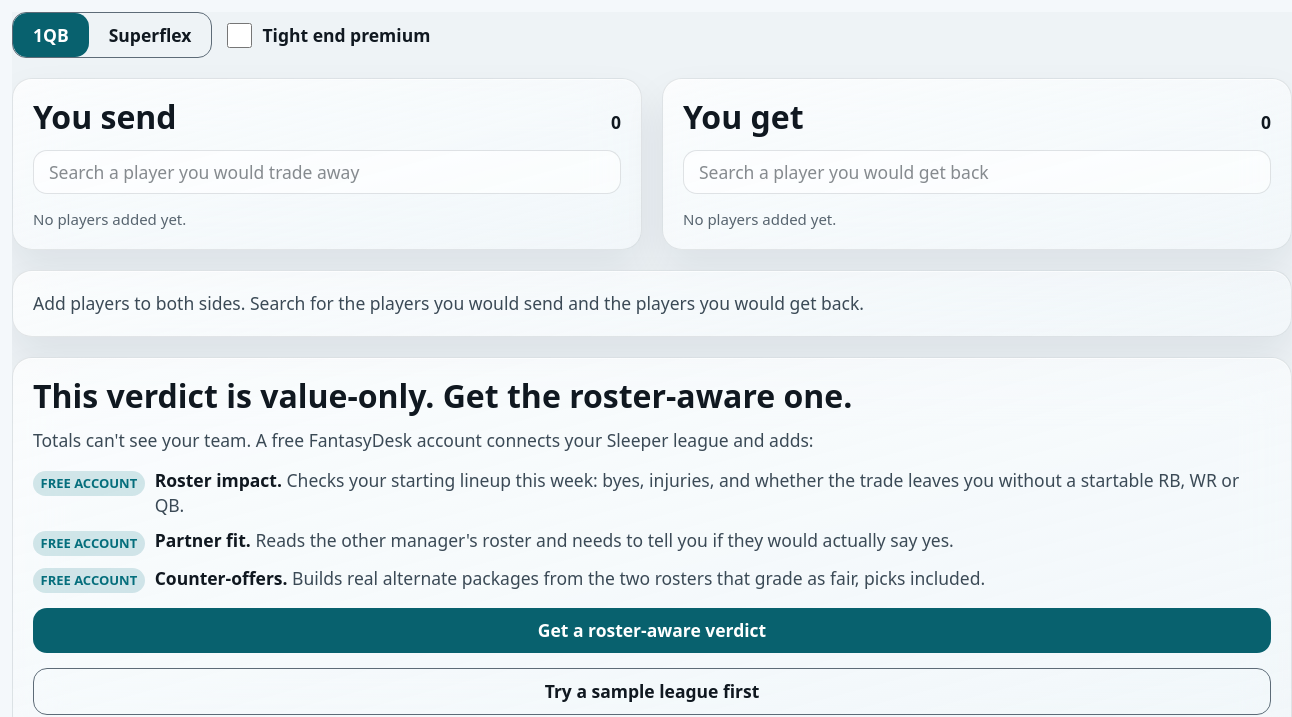
Test: PublicTradeAnalyzer › supports keyboard selection in the combobox
Type "josh" into the dropdown named "Search players for You send". click: coordinates (327, 172)
box: [33,150,621,194]
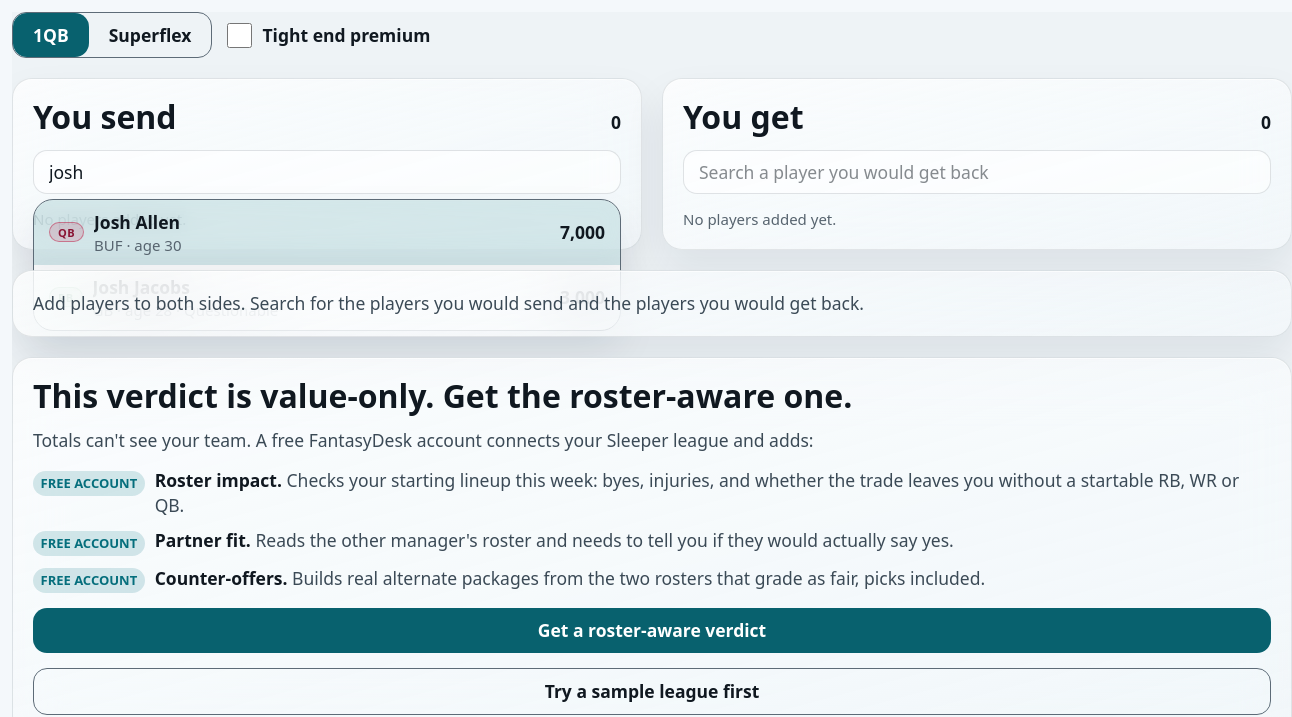
Press ArrowDown in the dropdown named "Search players for You send", box [33,150,621,194]
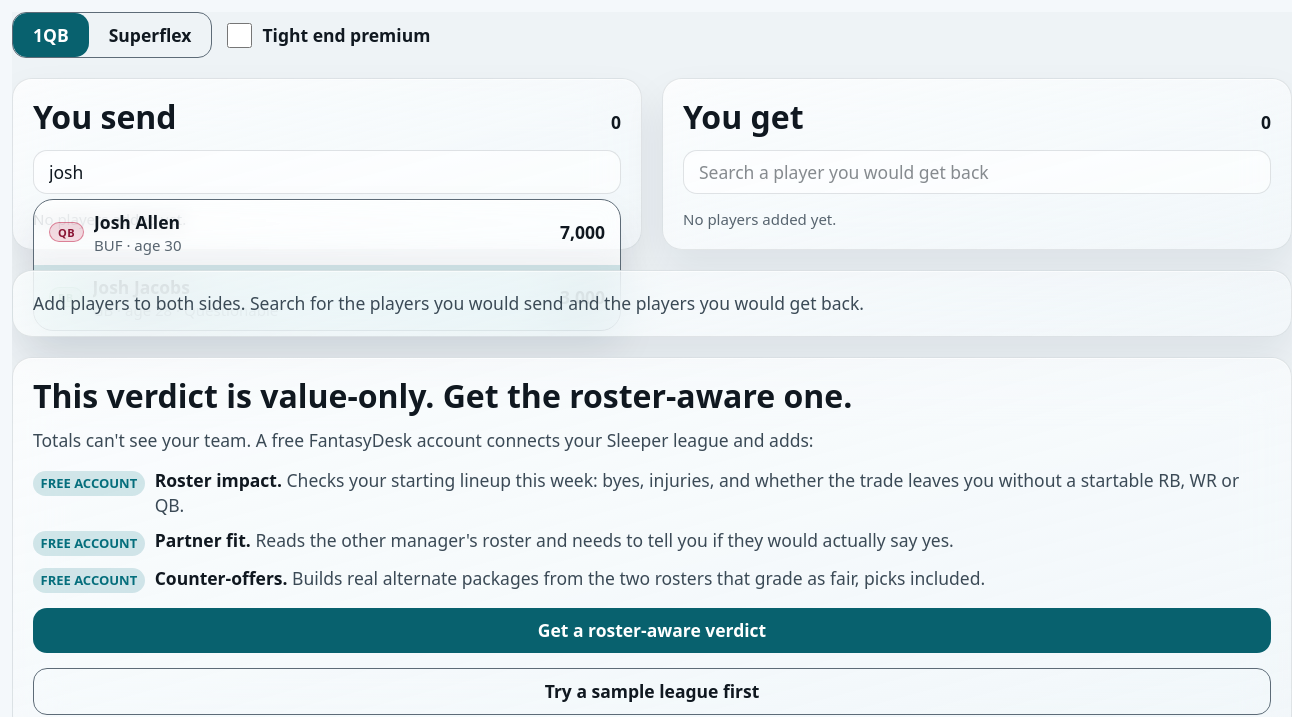
Press Enter in the dropdown named "Search players for You send", box [33,150,621,194]
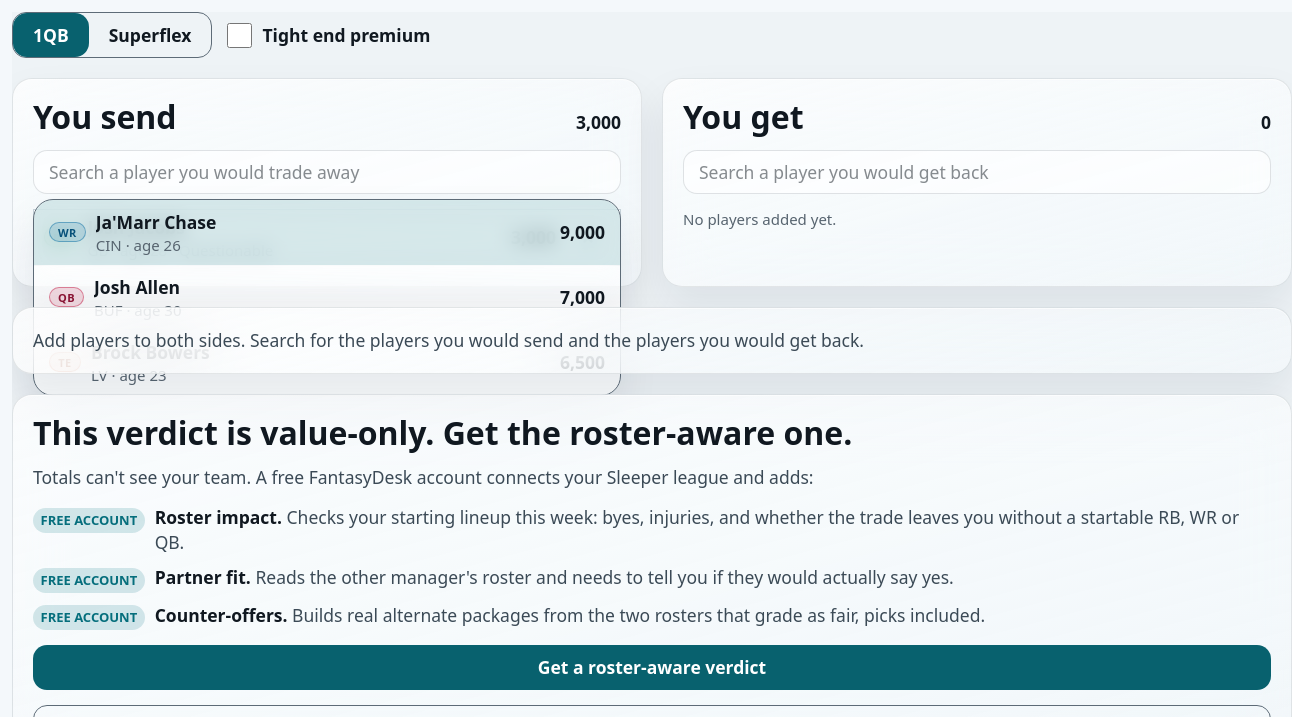
Check: the button named "Remove Josh Jacobs from You send" is shown, box [566,216,610,260]
